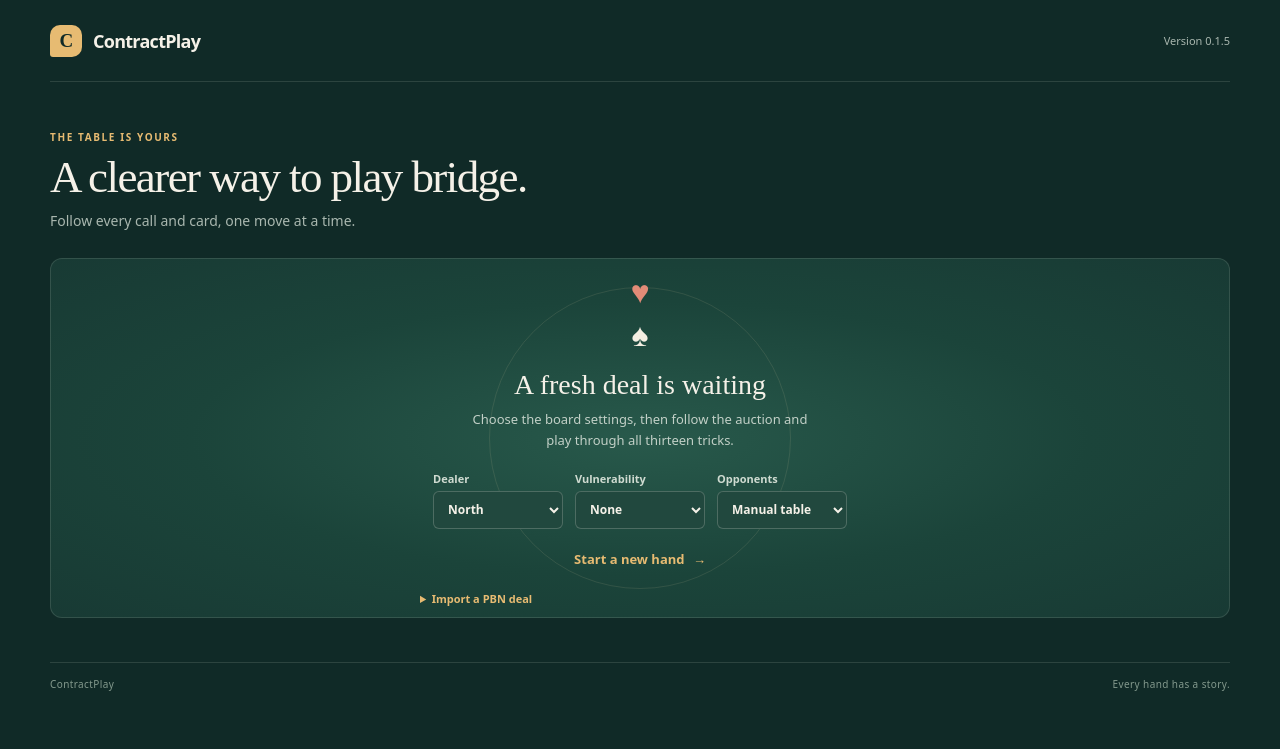
bridge table › starts a hand and advances the auction through the core reducer
Click the button "Start a new hand →".
click(640, 559)  # box [574,541,706,577]
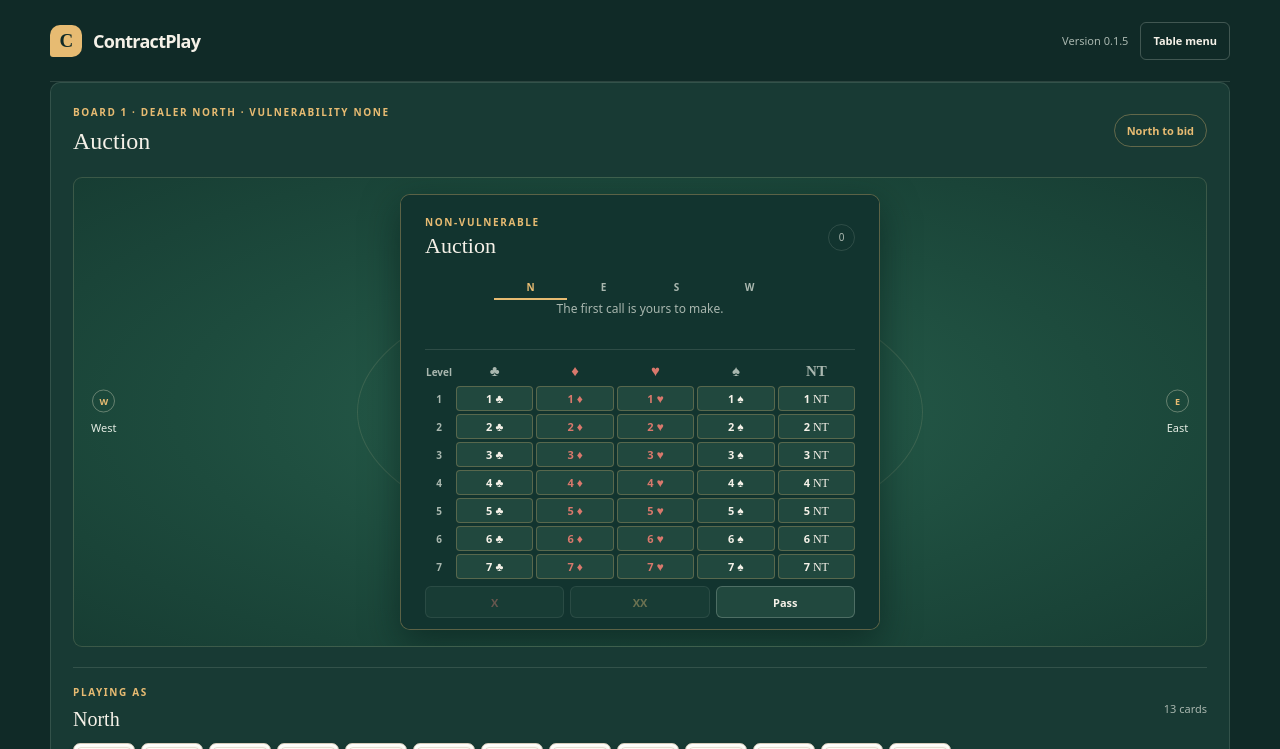
Expected: the element "Auction" is shown, [400,194,880,630]
Expected: the text "North to bid" is shown, [1114,114,1207,146]
Click the button named "1 clubs".
click(495, 398)  # box [456,386,533,411]
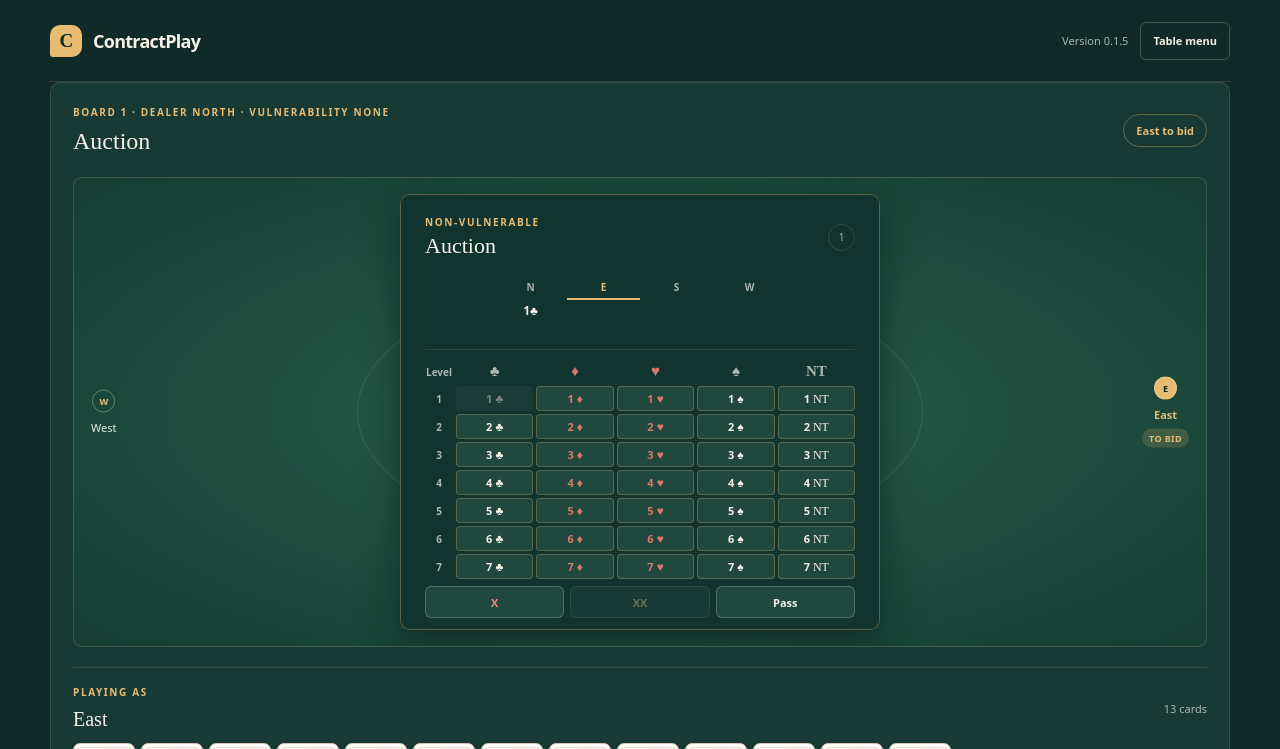
Expected: the text "East to bid" is shown, [1123,114,1207,146]
